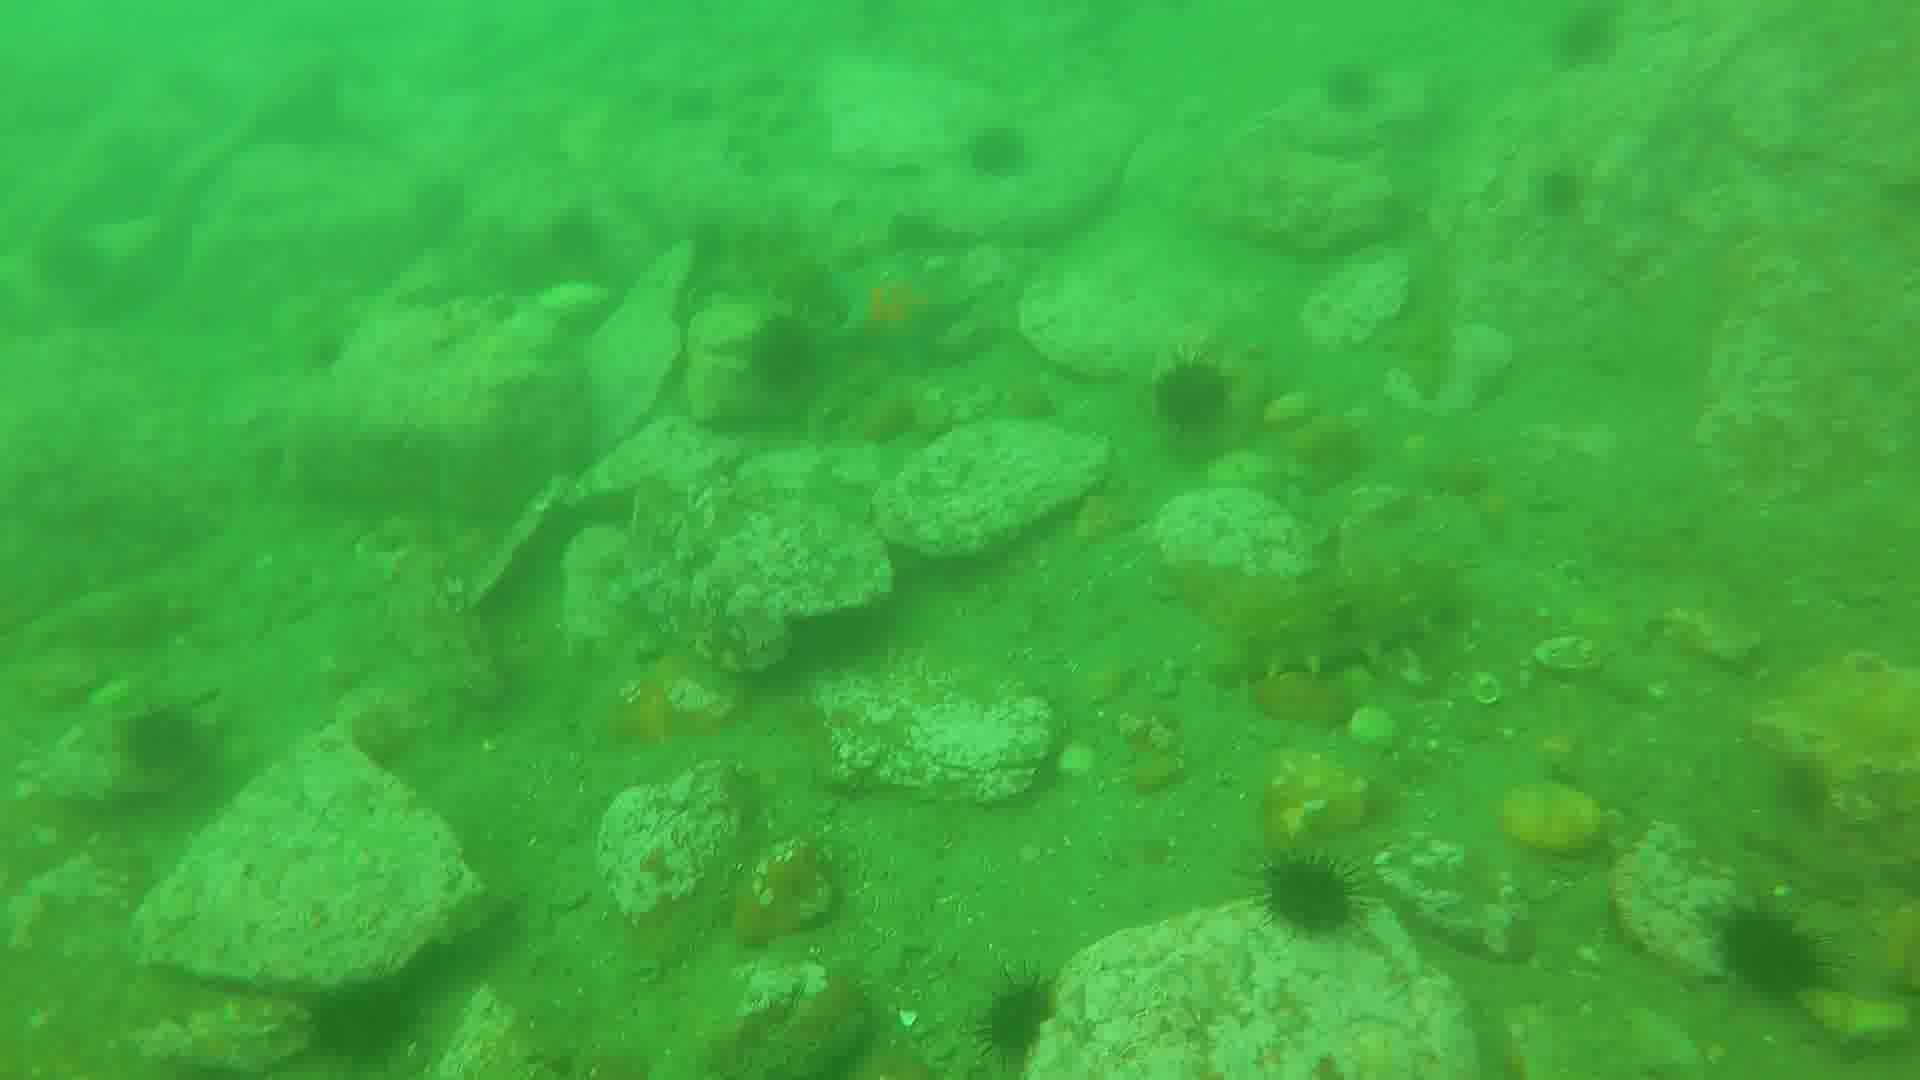echinus: (1712, 899, 1836, 1006), (1253, 852, 1371, 936), (973, 971, 1054, 1069), (1160, 357, 1245, 434), (127, 692, 207, 771), (757, 313, 829, 388), (968, 124, 1038, 182)
holothurian: (1218, 566, 1457, 690)
starfish: (822, 251, 964, 359)
